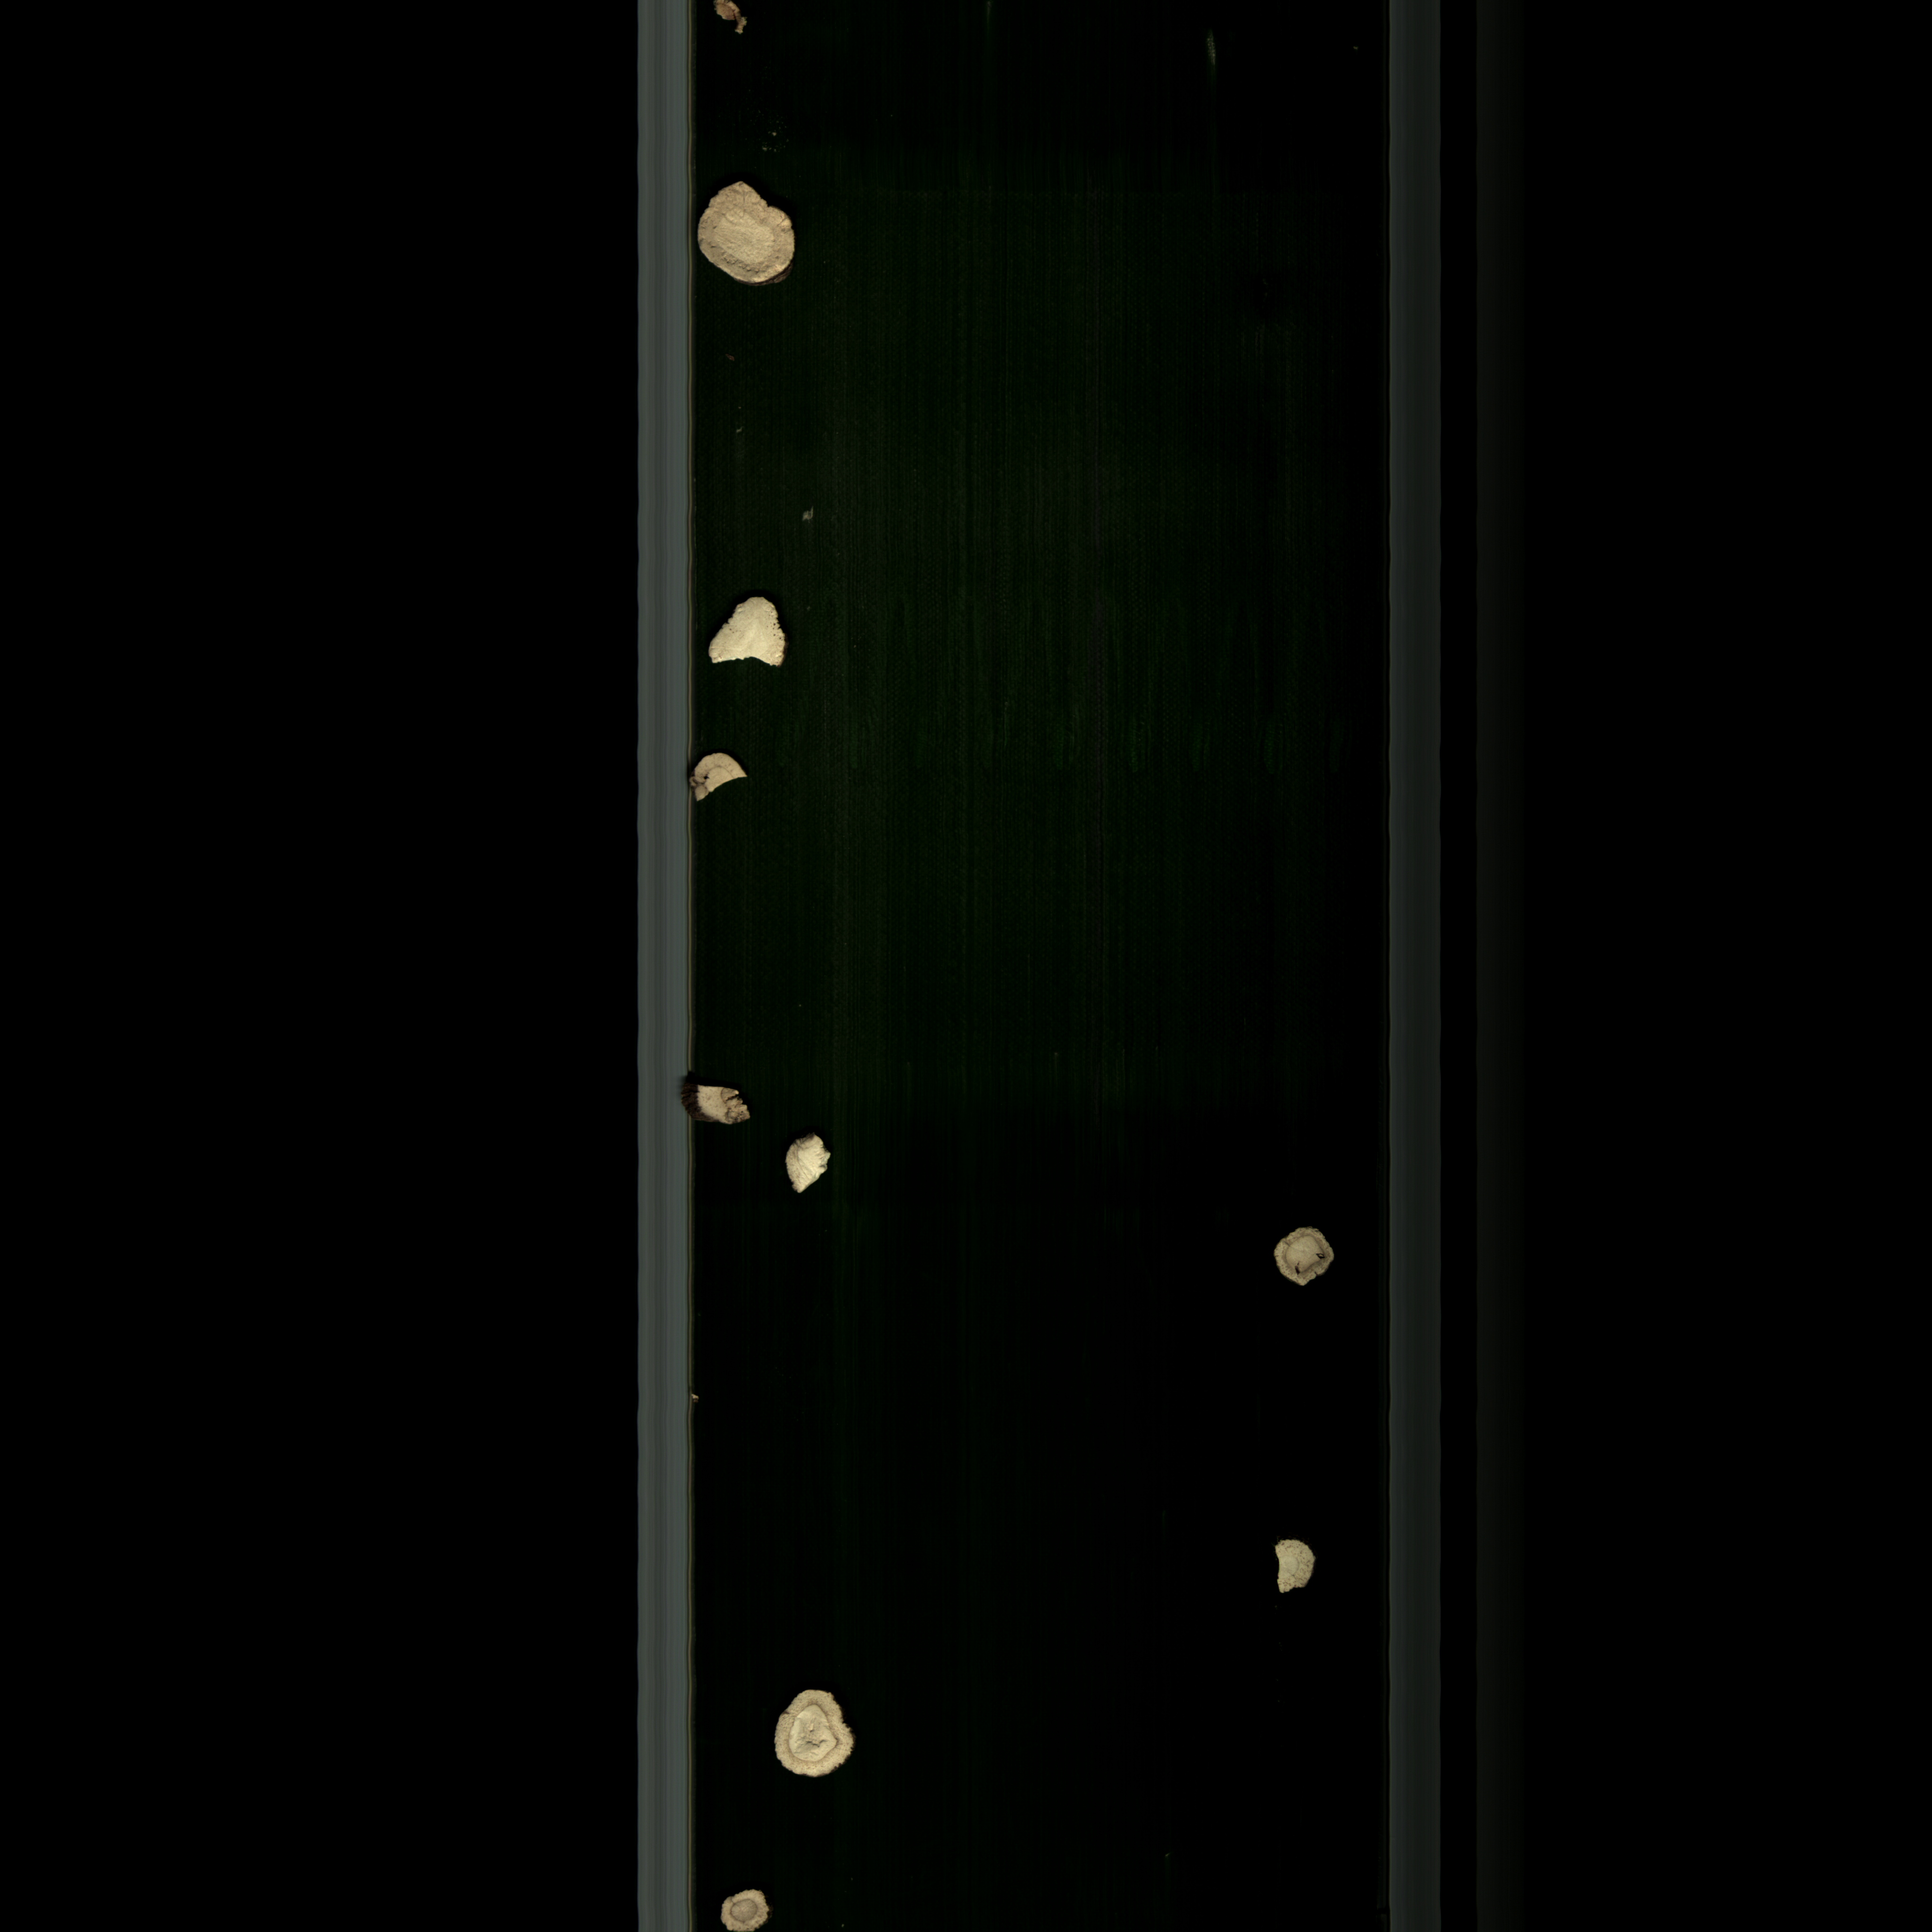bark: (708, 0, 773, 48)
debris: (699, 582, 801, 686), (1260, 1529, 1332, 1605), (686, 745, 757, 812)
distortion: (766, 1679, 874, 1789)
dreg: (786, 1139, 839, 1198)
moldy: (686, 165, 816, 310), (1261, 1214, 1348, 1307), (683, 1065, 761, 1136), (711, 1882, 791, 1932)
